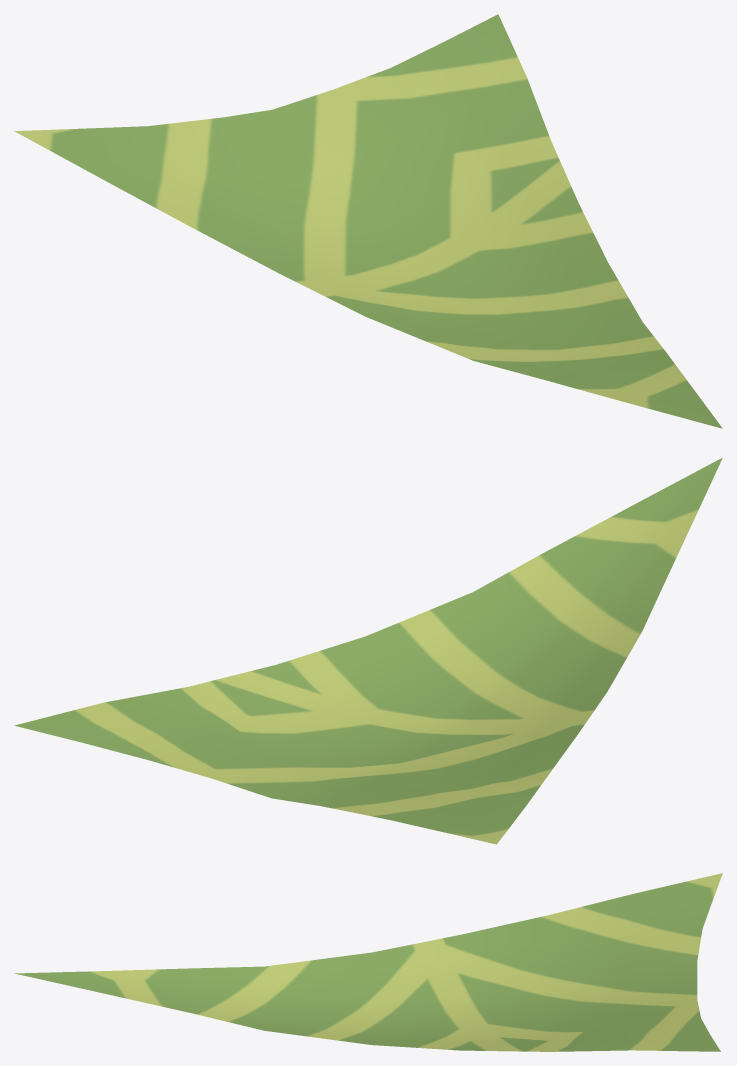
Rendered from Sheet_04.fbx.
3 renders of one model, top to bottom at view 1: azimuth 30°, elevation 25°; view 2: azimuth 150°, elevation 25°; view 3: azimuth 270°, elevation 25°, orthographic. The views are drawn at different scales.
Visible parts, largest first — view 1: pPlane5; view 2: pPlane5; view 3: pPlane5.
Boxes of the visible parts, x1,y1,x2,y2 form: pPlane5: (14,14,722,428); pPlane5: (14,457,722,844); pPlane5: (14,873,722,1051).
Size of the model in its own units: 5.22 by 0.6885 by 8.75.
